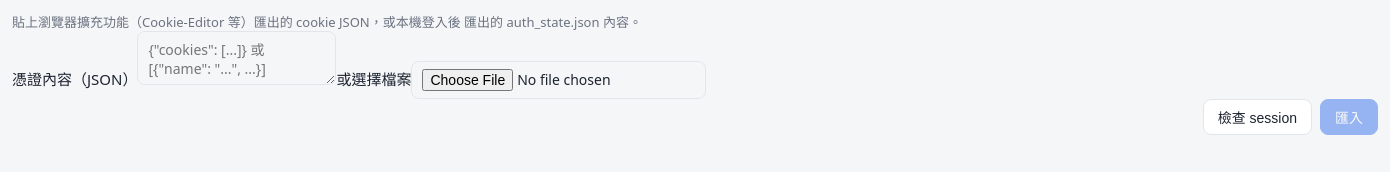
Scenario: LoginSettingsSection › checks session status live and shows the resulting message
Click the button "檢查 session": (1257,117) x1=1203 y1=99 x2=1312 y2=135
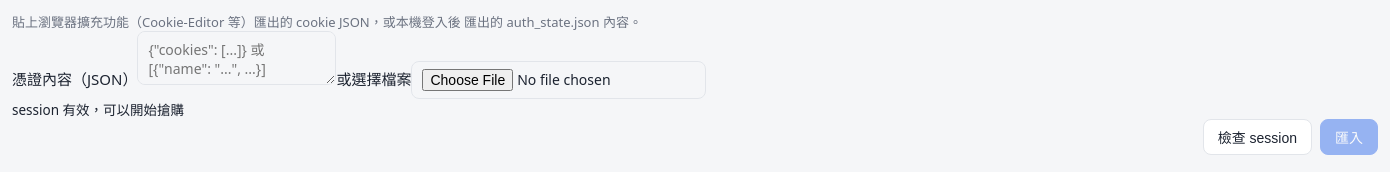
expect the text "session 有效，可以開始搶購" is shown: met, box x1=12 y1=101 x2=184 y2=119
